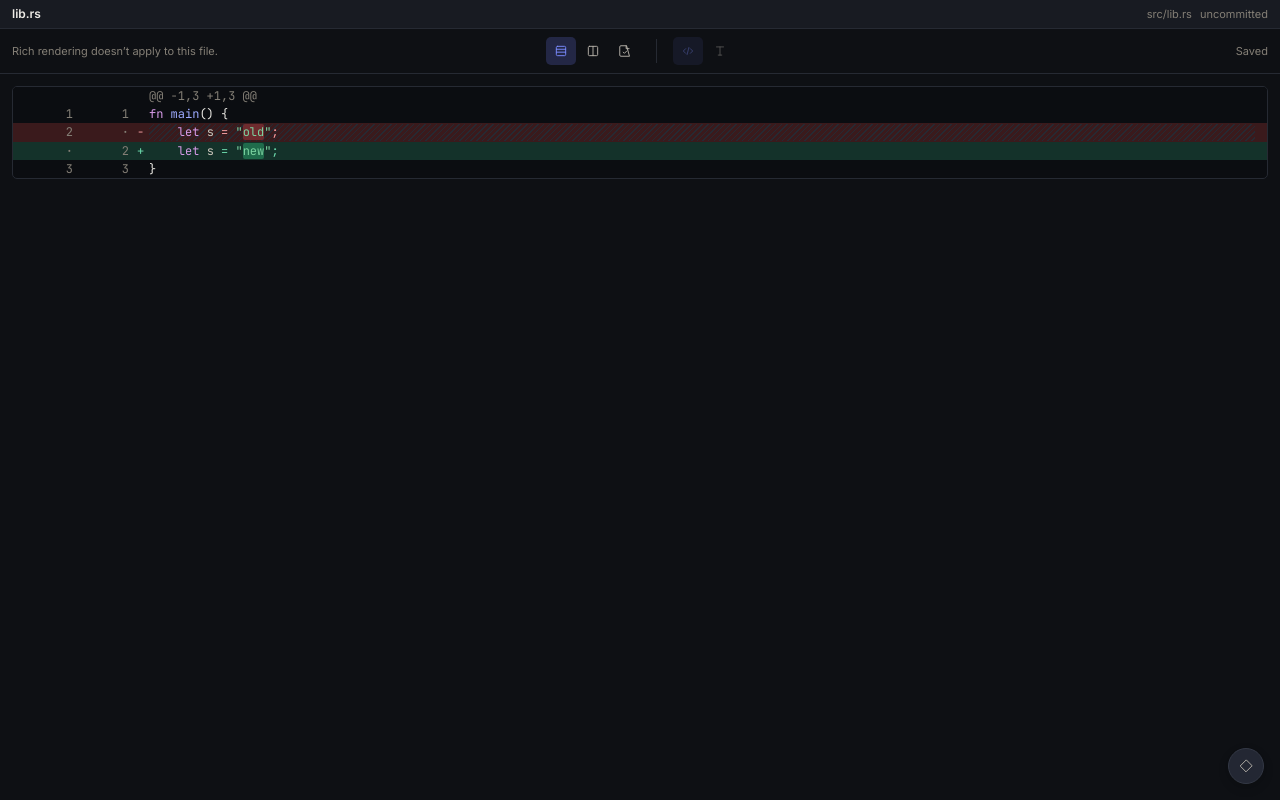
Test: syntax highlighting in Source (DFV-FR-57) › DFV-FR-57, DFV-FR-41, DFV-FR-43, ESH-FR-BABL, ESH-FR-CFEQ colours the rows of side-by-side and final too
The image size is (1280, 800).
Expected: the element showing "@@ -1,3 +1,3 @@" is shown, [13,87,1267,105]
What coordinates should you click on to do the following:
click the radio button named "Side-by-side"
I would click on:
 (592, 51)
Its box is [578,37,608,65].
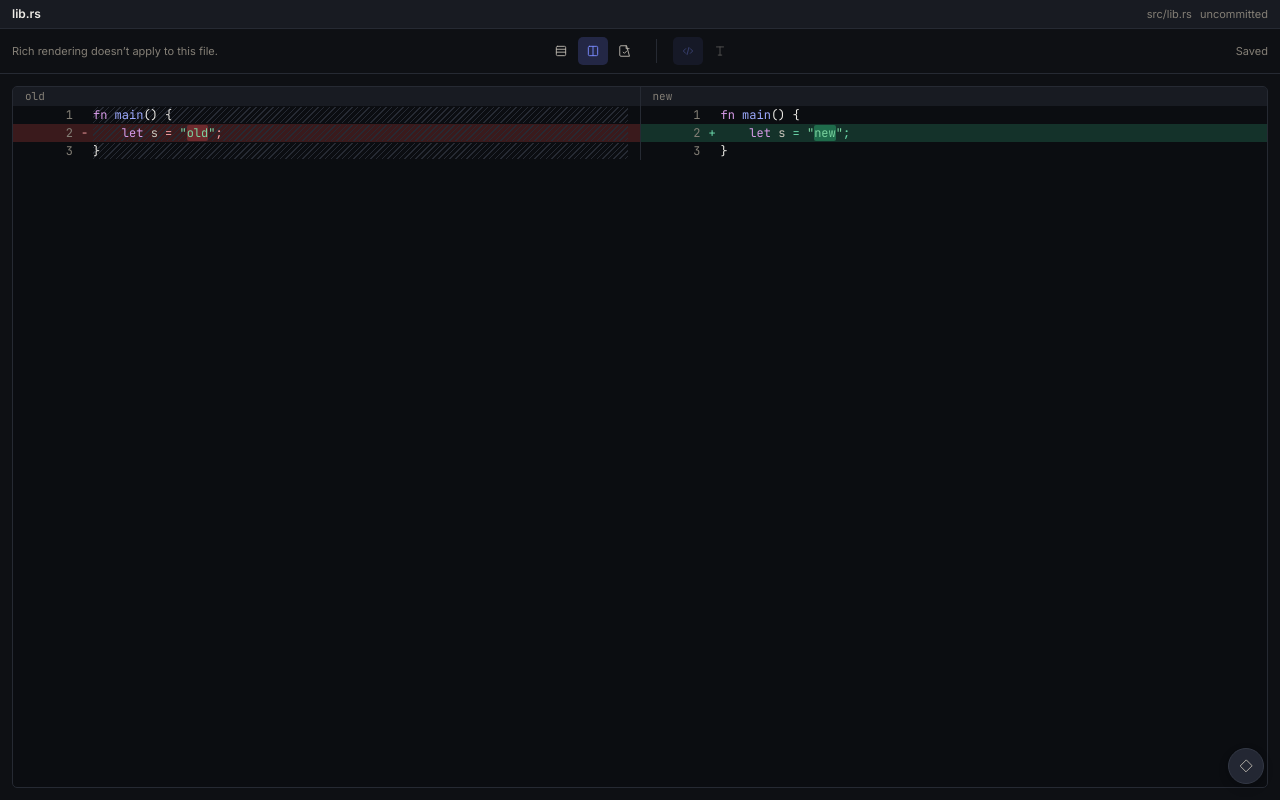
Expected: the text "fn" is shown, [93,107,107,123]
Result: the element with test id "diff-side-by-side" is shown
What coordinates should you click on to do the following:
click the radio button named "Final"
I would click on:
 (624, 51)
Its box is [610,37,640,65].
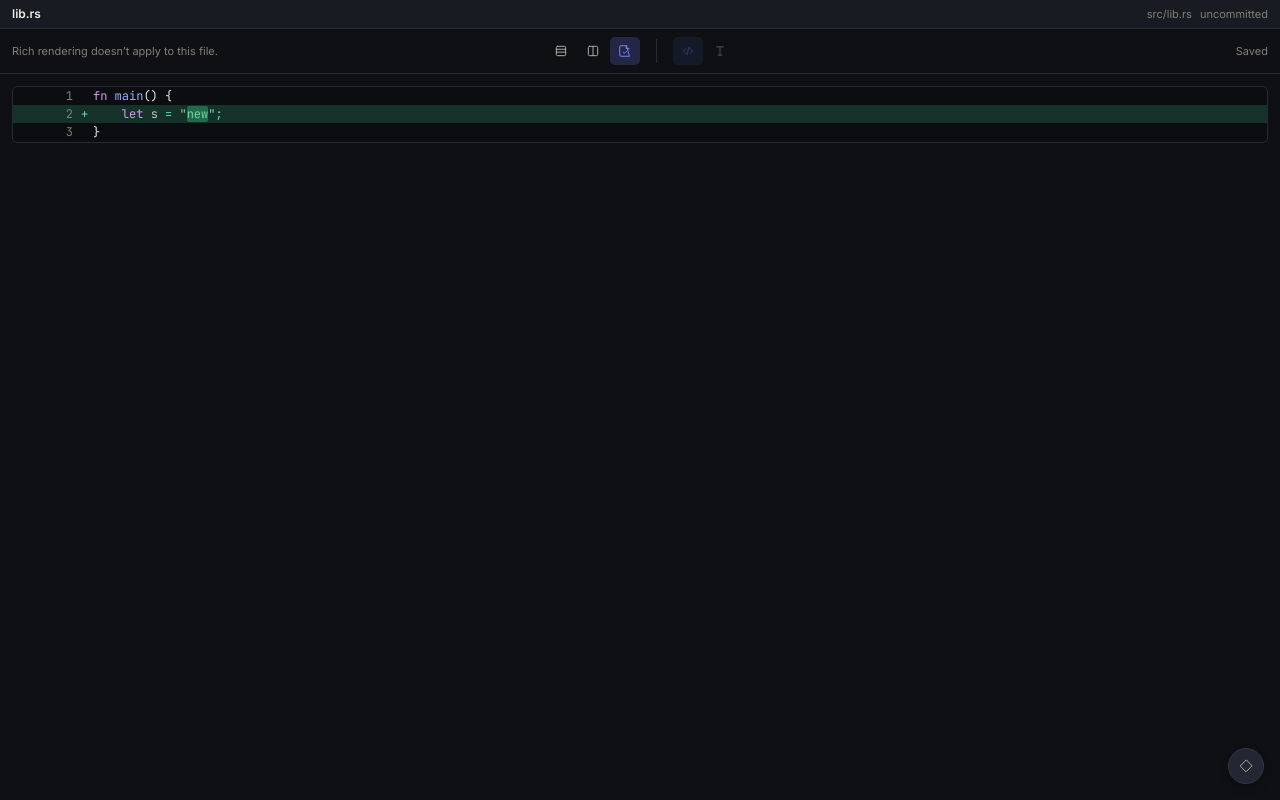
Expected: the text box with class "hl--keyword" showing "fn" is shown, [93,88,107,104]
Result: the element with test id "diff-final" is shown at [12,86,1268,143]
